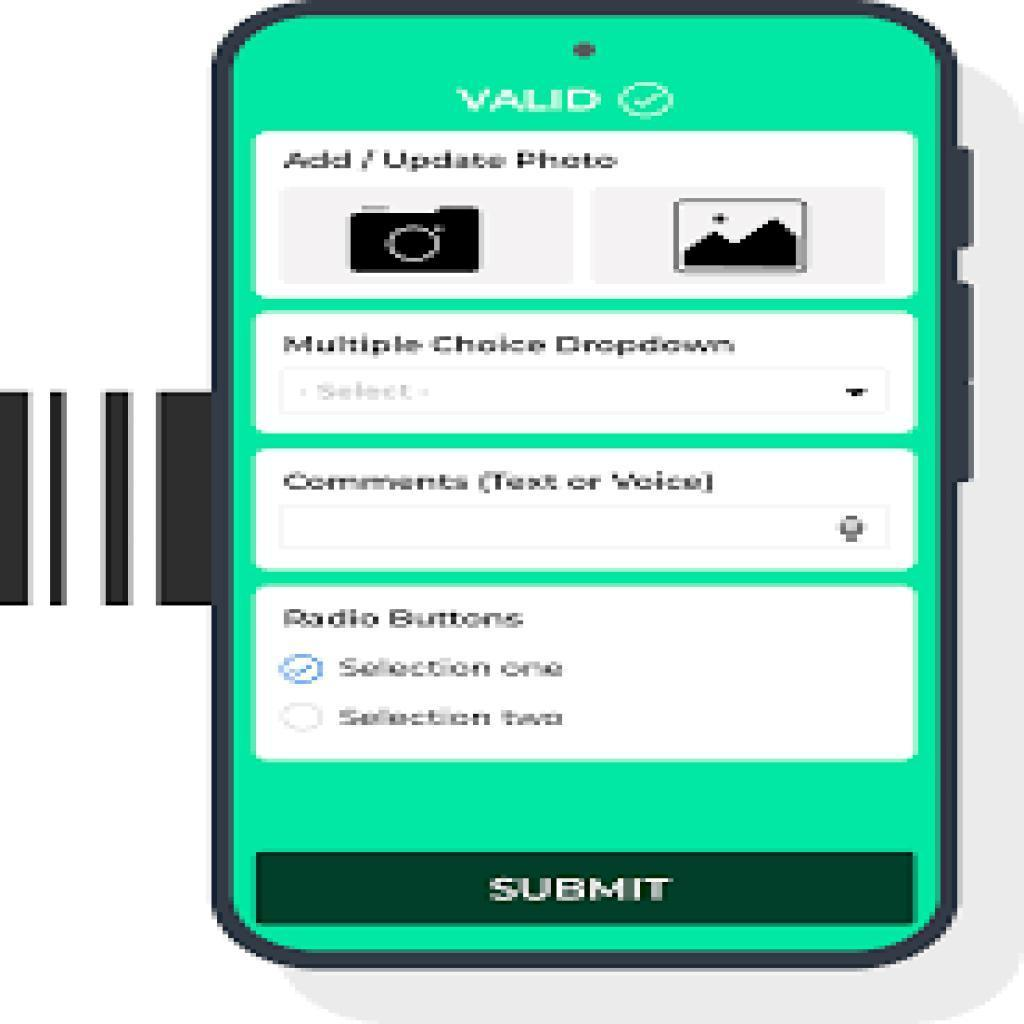button: (257, 852, 917, 930)
dropdown: (283, 370, 893, 416)
input: (285, 508, 891, 549)
label: (335, 698, 575, 739), (334, 650, 574, 688)
radio: (277, 702, 327, 736), (278, 653, 324, 687)
